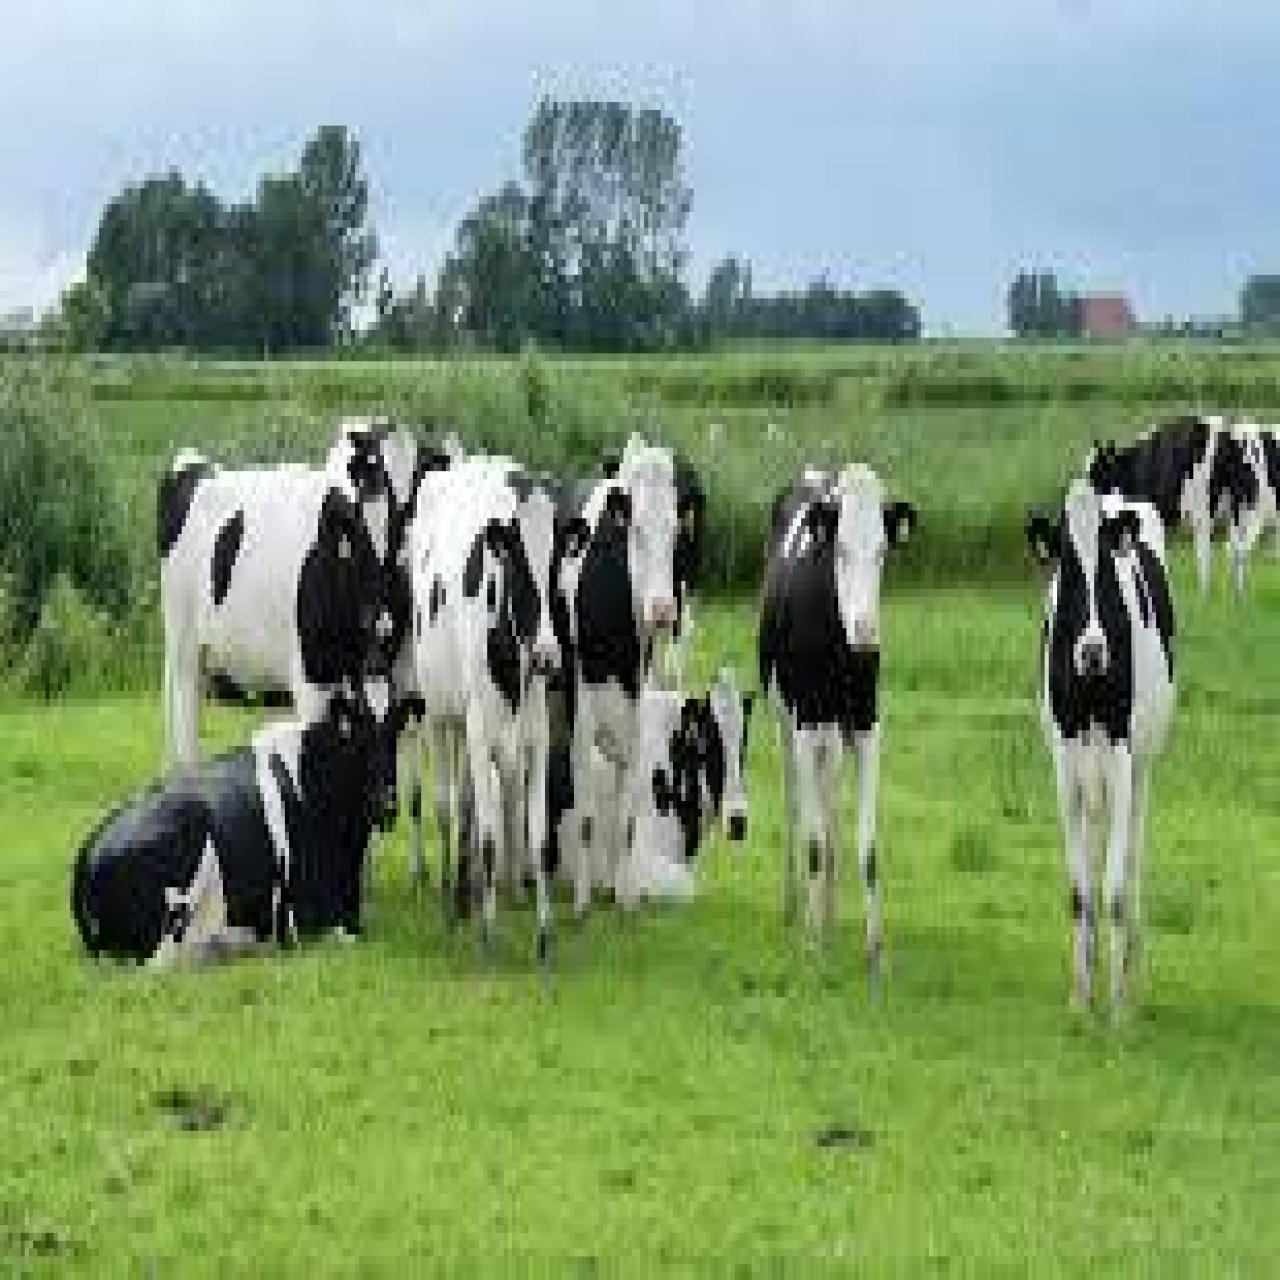cow: (70, 692, 425, 974), (409, 455, 591, 958), (757, 463, 919, 966), (1028, 475, 1177, 1017), (157, 448, 400, 769), (572, 679, 762, 914), (564, 448, 704, 707), (1084, 416, 1237, 597), (324, 413, 452, 570), (1223, 421, 1280, 601)
